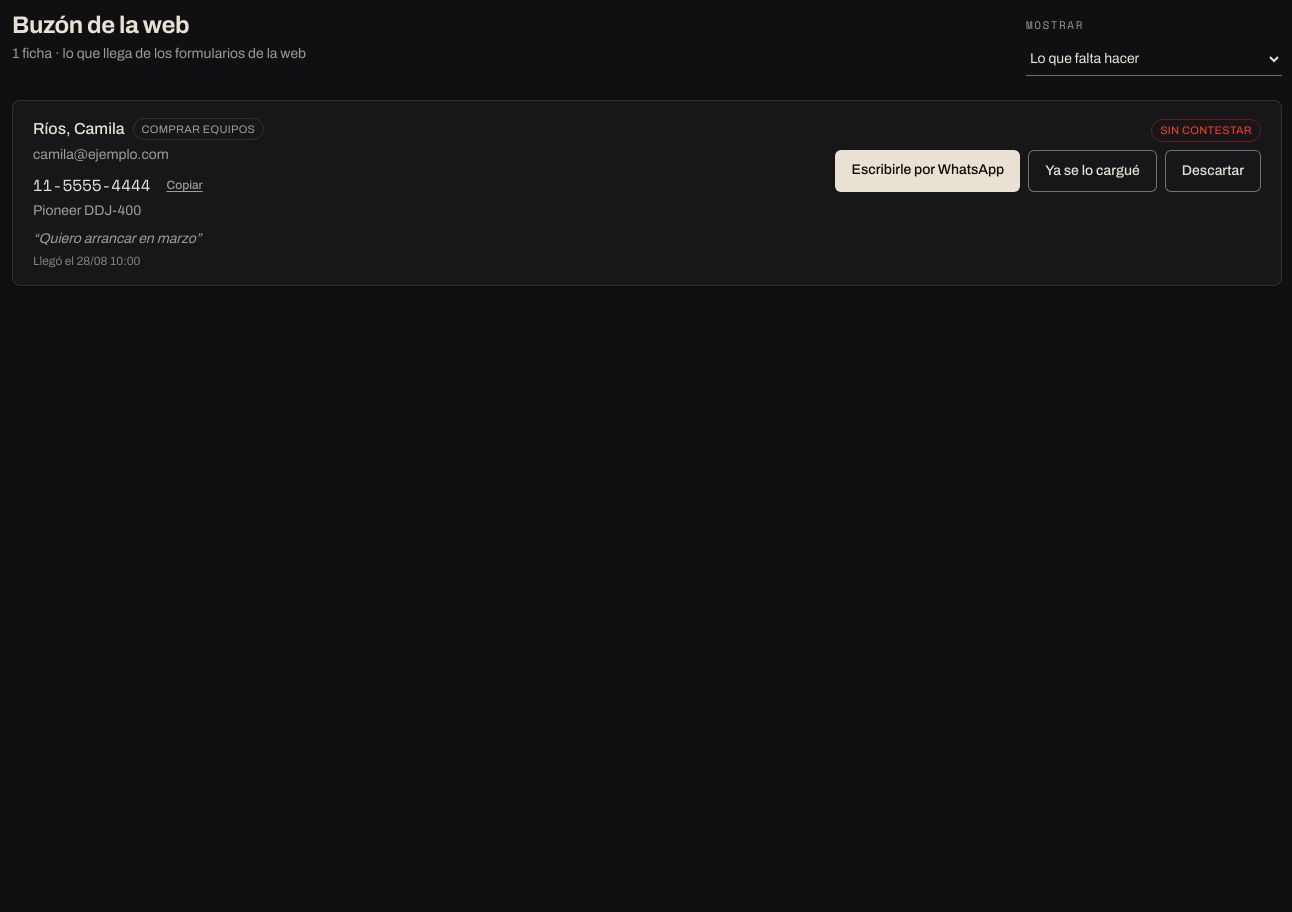
Scenario: convertir la ficha en cuenta › muestra la contraseña temporal, que no se puede volver a ver
The width and height of the screenshot is (1292, 912).
Click the button "Ya se lo cargué". click: (1092, 170)
box: 1028,150 -> 1157,192
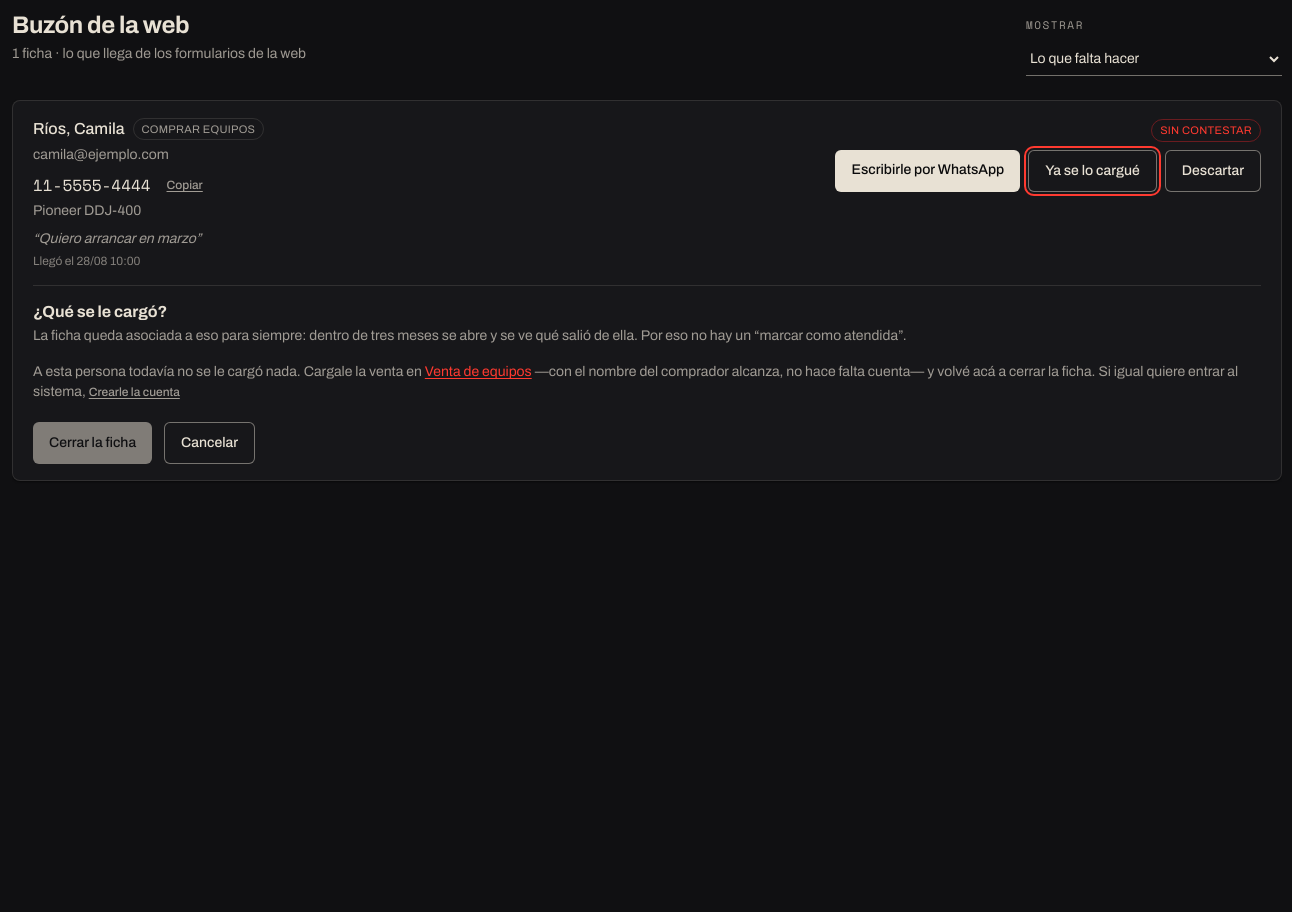
Click the button "Crearle la cuenta". click: (134, 392)
box: 89,384 -> 180,400
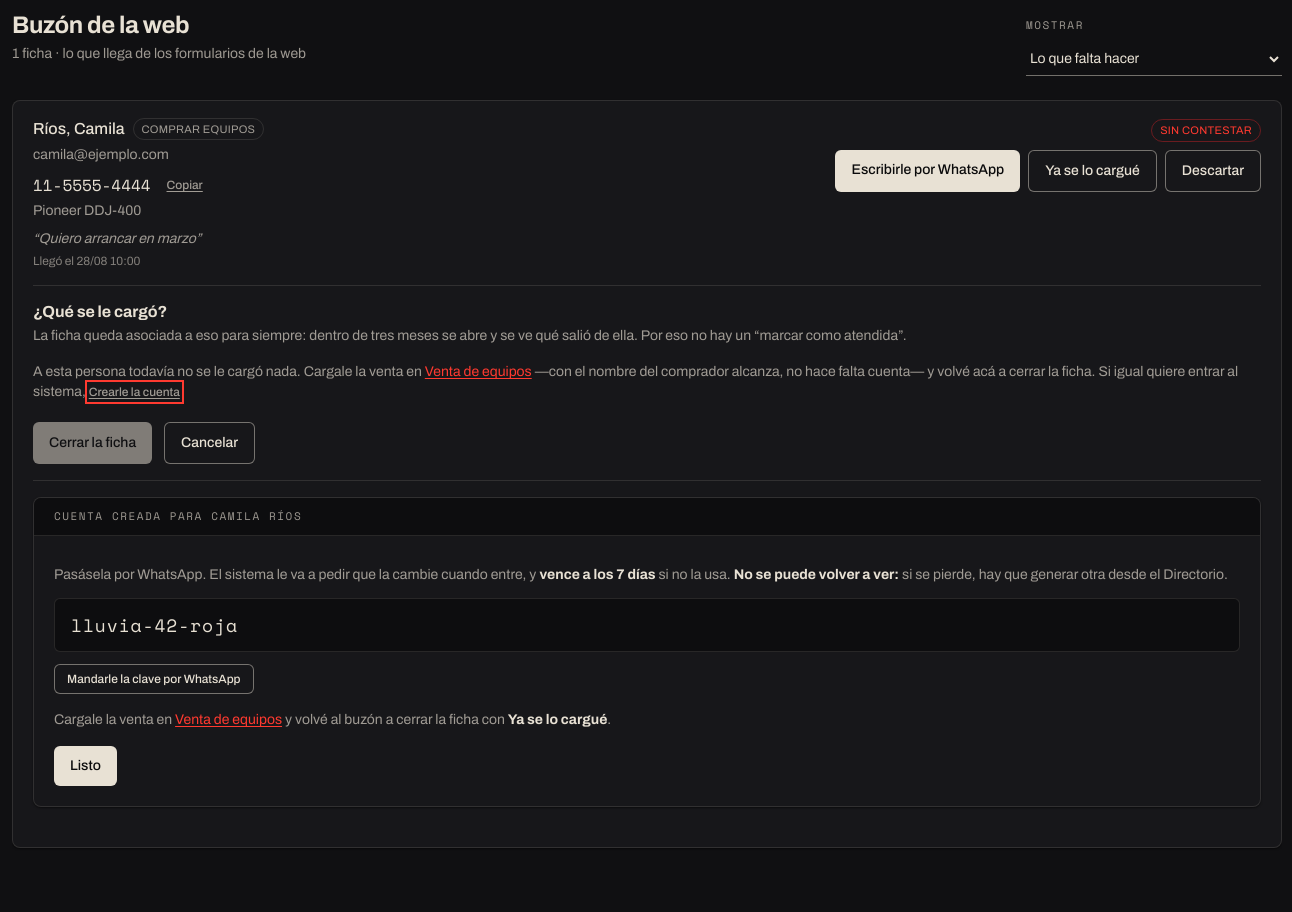
Expected: the text "lluvia-42-roja" is shown, 54,598 -> 1240,652
Expected: the heading "Cuenta creada para Camila Ríos" is shown, 54,508 -> 302,524
Expected: the text "No se puede volver a ver:" is shown, 734,566 -> 899,582
